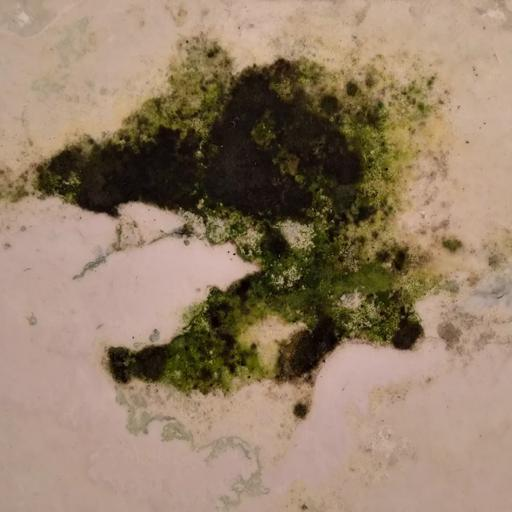algae: (0, 25, 489, 452)
